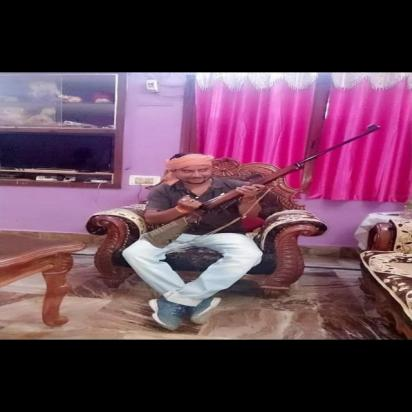Gun: (136, 122, 386, 250)
